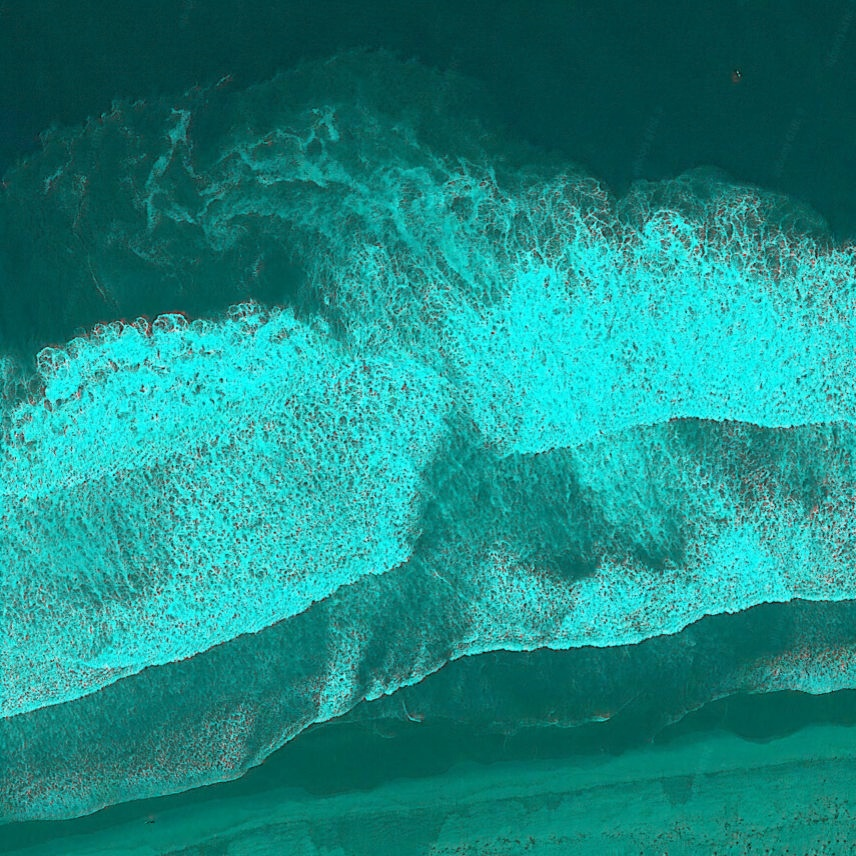rip_current: (182, 78, 629, 628)
